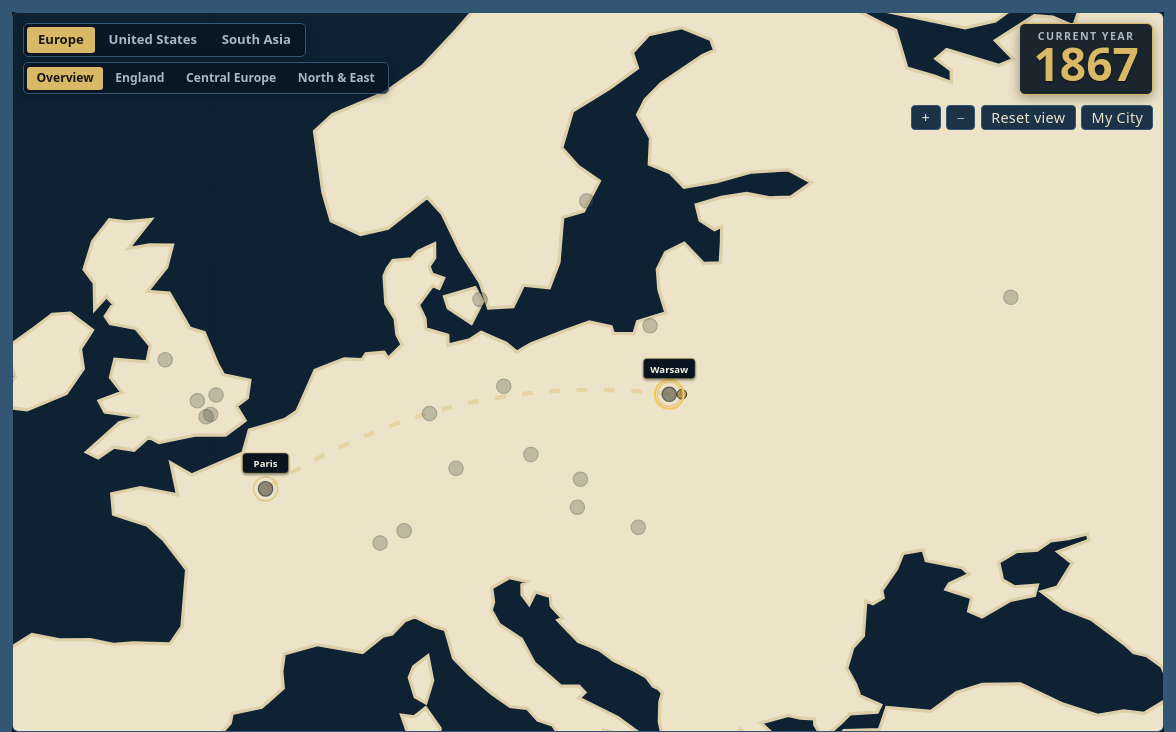
Test: board controls › jumps to, selects, and centers the active player’s current city
The image size is (1176, 732).
Click the button with test id "jump-to-current-city-btn" at (1117, 118), box [1081,106,1153,130]
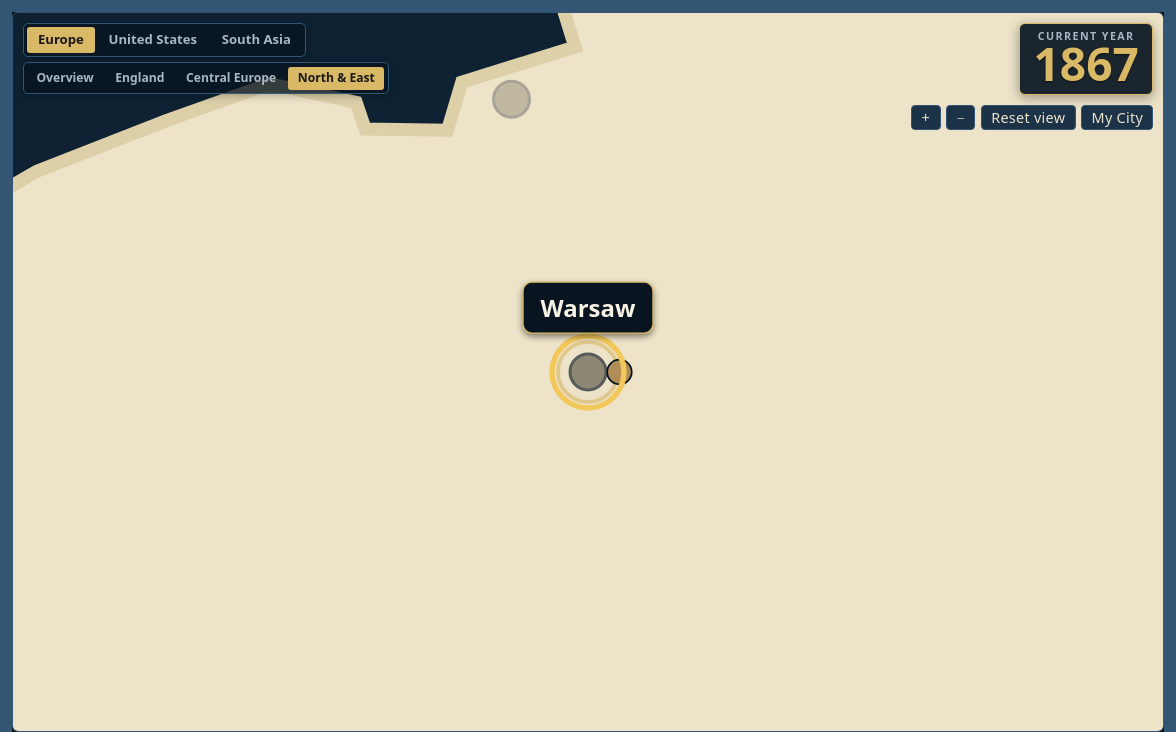
expect the tab "North & East" is selected: met, box [288,67,384,90]
